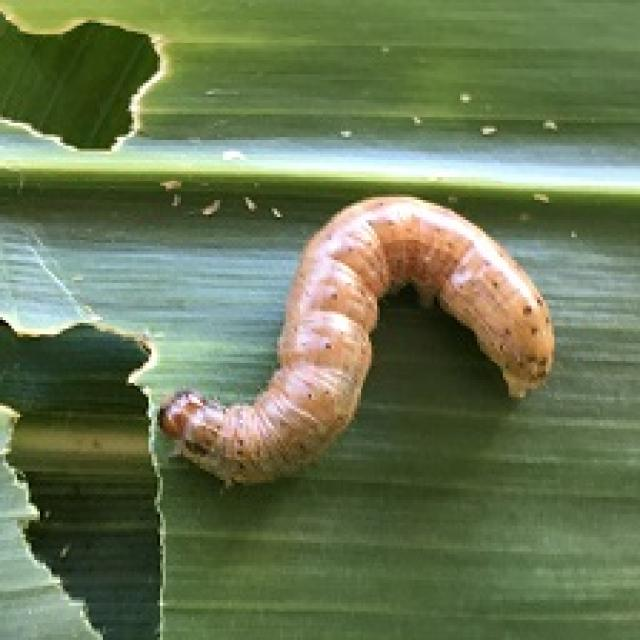worm: (156, 193, 556, 490)
